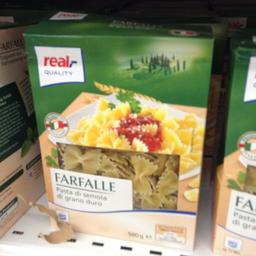pasta: (20, 12, 214, 252)
